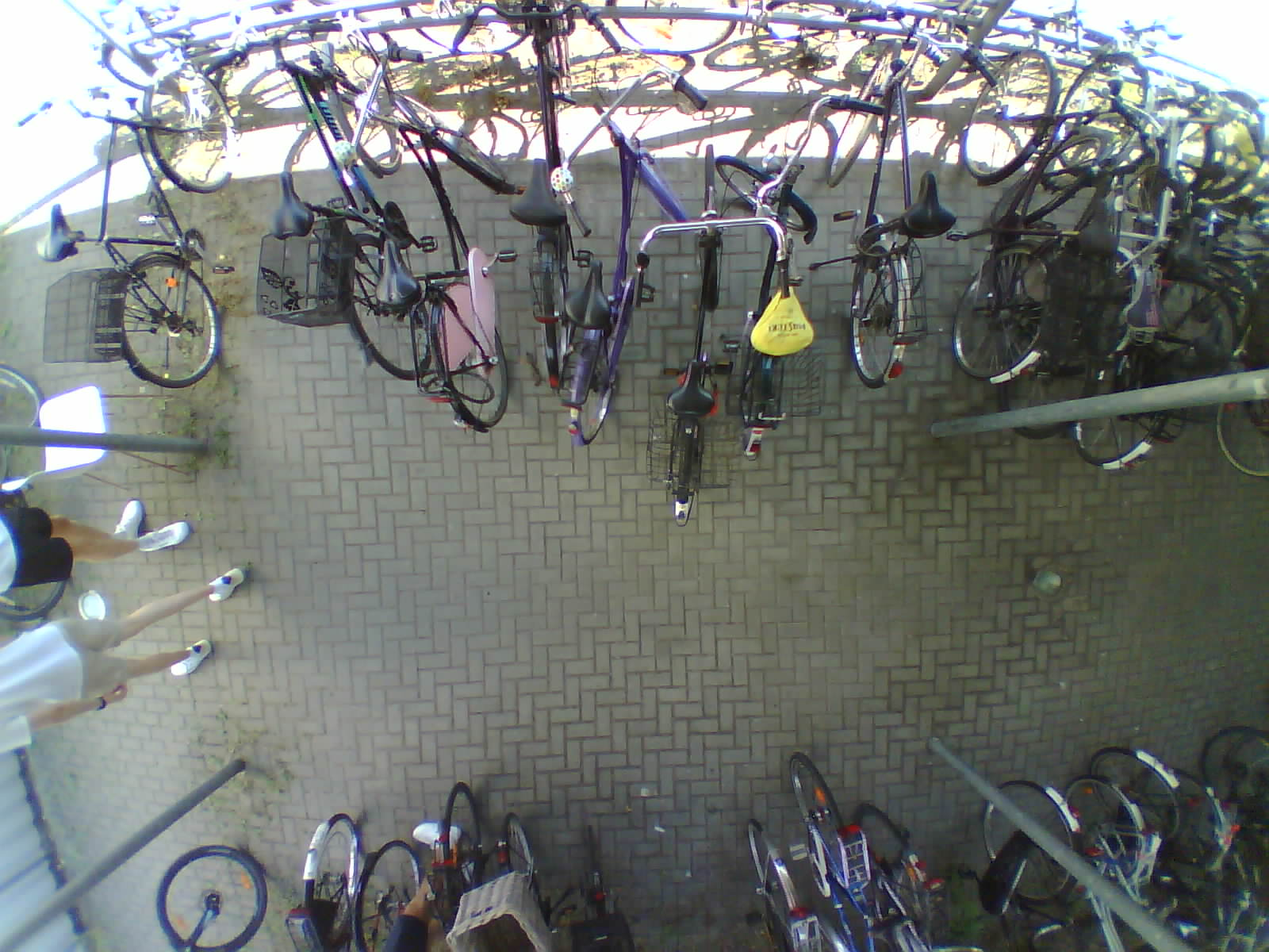bicylce: (285, 14, 428, 392), (548, 102, 697, 436), (623, 152, 743, 523), (109, 55, 236, 382), (1012, 123, 1140, 433), (414, 96, 528, 443), (956, 45, 1062, 387), (829, 42, 935, 379), (717, 149, 814, 475), (507, 4, 573, 386)
saddle: (745, 268, 818, 356), (499, 150, 572, 229), (893, 162, 959, 248), (367, 226, 432, 311), (259, 167, 324, 241), (661, 353, 721, 425), (564, 253, 619, 327), (1075, 191, 1126, 258), (1124, 269, 1171, 330), (39, 199, 83, 259), (1166, 219, 1205, 280)
